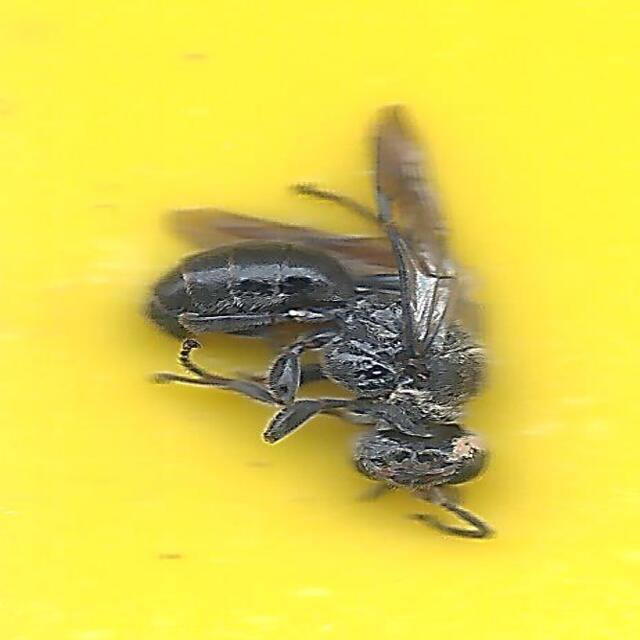Hymenoptera: (139, 96, 501, 544)
